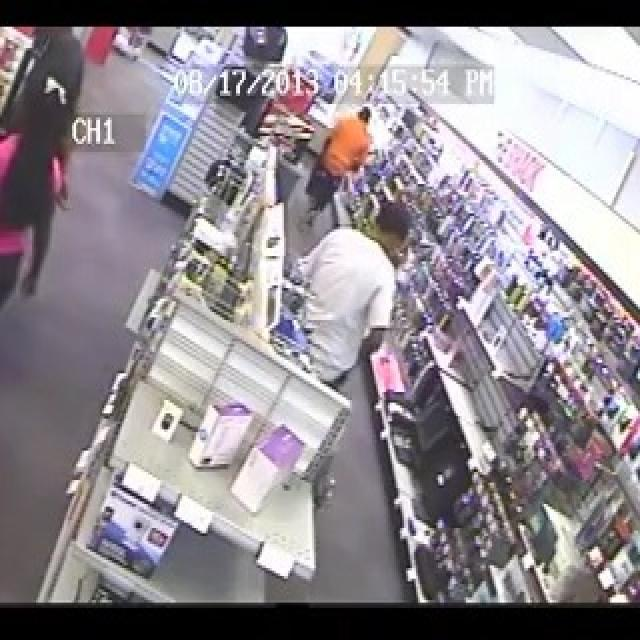Normal: (297, 187, 417, 391), (0, 61, 74, 330), (301, 97, 376, 230)
